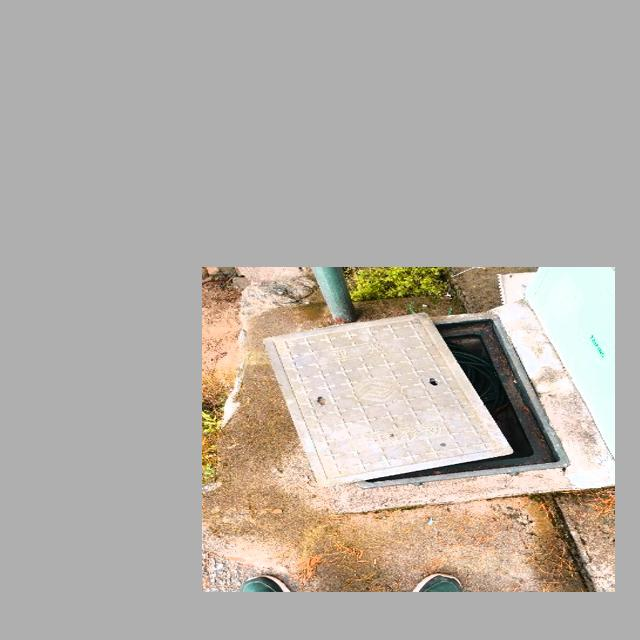uncovered: (263, 310, 570, 492)
